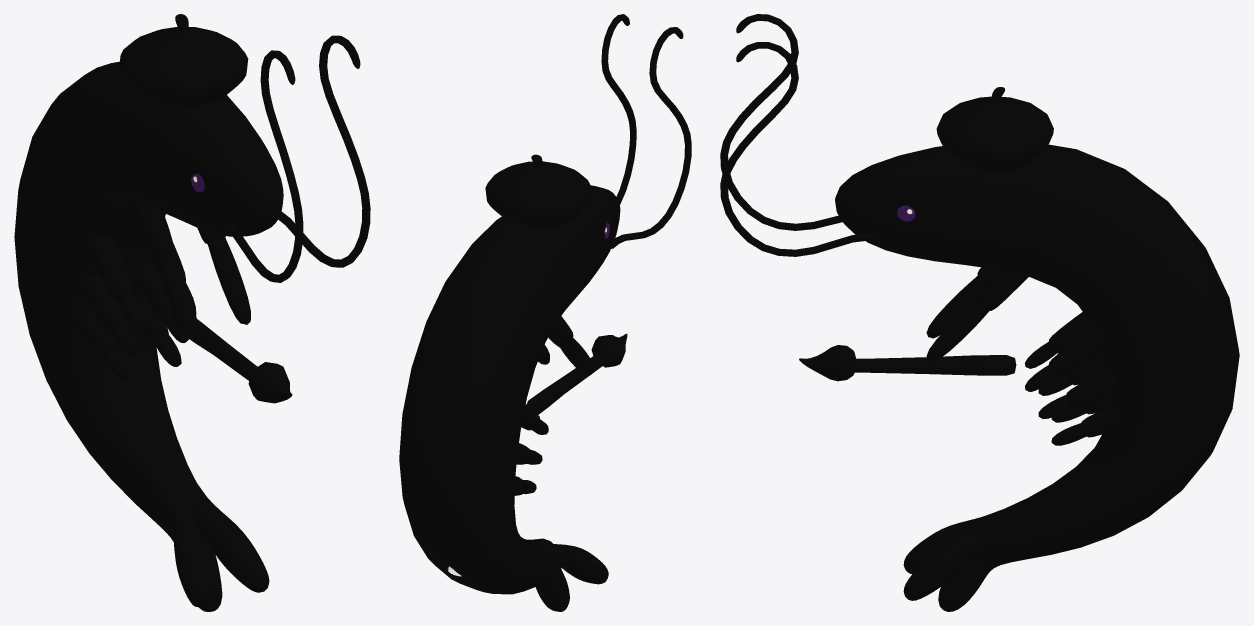
Rendered from shrimp.glb.
The picture shows the model from 3 angles, left to right: view 1: azimuth 30°, elevation 25°; view 2: azimuth 150°, elevation 25°; view 3: azimuth 270°, elevation 25°; orthographic projection. The views are drawn at different scales.
Visible parts, largest first — view 1: Cube, Cube.009, Vert, Cube.006, Cube.004, Cube.005, Cube.001, Cube.007, Cube.008; view 2: Cube, Cube.009, Vert, Cube.006, Cube.007, Cube.008, Cube.001, Cube.004; view 3: Cube, Cube.009, Vert, Cube.006, Cube.001, Cube.007, Cube.004, Cube.005, Cube.008.
Part boxes in pixels (x1,y1,x2,y2): Cube: (14, 61, 283, 611); Cube.009: (119, 14, 248, 108); Vert: (220, 35, 370, 282); Cube.006: (129, 198, 250, 337); Cube.004: (78, 261, 188, 355); Cube.005: (76, 300, 181, 379); Cube.001: (85, 235, 196, 331); Cube.007: (170, 307, 257, 380); Cube.008: (248, 362, 292, 403); Cube: (399, 185, 620, 611); Cube.009: (485, 154, 591, 227); Vert: (601, 14, 691, 248); Cube.006: (538, 316, 593, 375); Cube.007: (526, 353, 607, 414); Cube.008: (591, 333, 627, 367); Cube.001: (521, 405, 548, 434); Cube.004: (516, 443, 542, 464); Cube: (835, 144, 1239, 611); Cube.009: (936, 87, 1053, 171); Vert: (720, 14, 878, 256); Cube.006: (926, 267, 1029, 361); Cube.001: (1025, 312, 1106, 391); Cube.007: (854, 355, 1016, 375); Cube.004: (1038, 351, 1117, 418); Cube.005: (1051, 395, 1121, 445); Cube.008: (799, 345, 856, 381).
Bounding box in the file's own units: 0.0396 × 0.2084 × 0.1685.
Materials: 1 (1 with a texture image).
